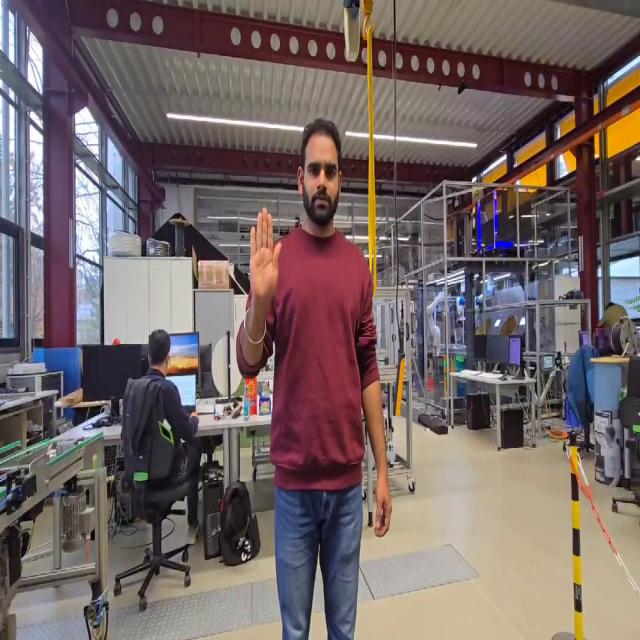open_palm: (245, 203, 285, 318)
